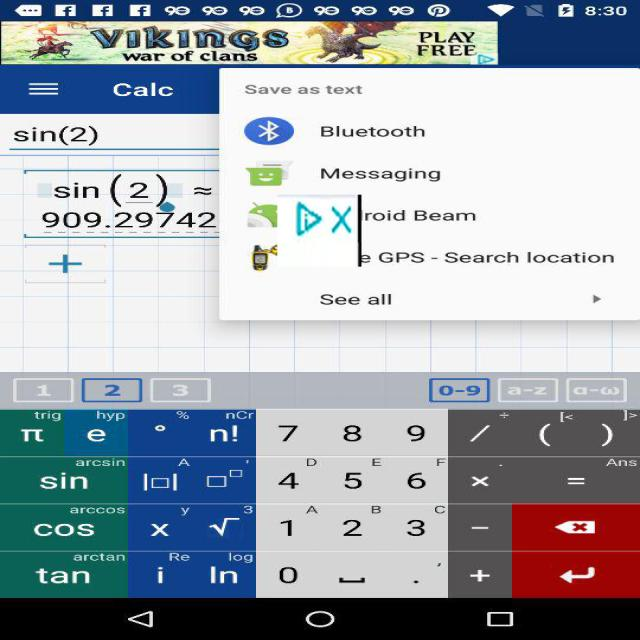sneaking: (278, 194, 362, 266)
